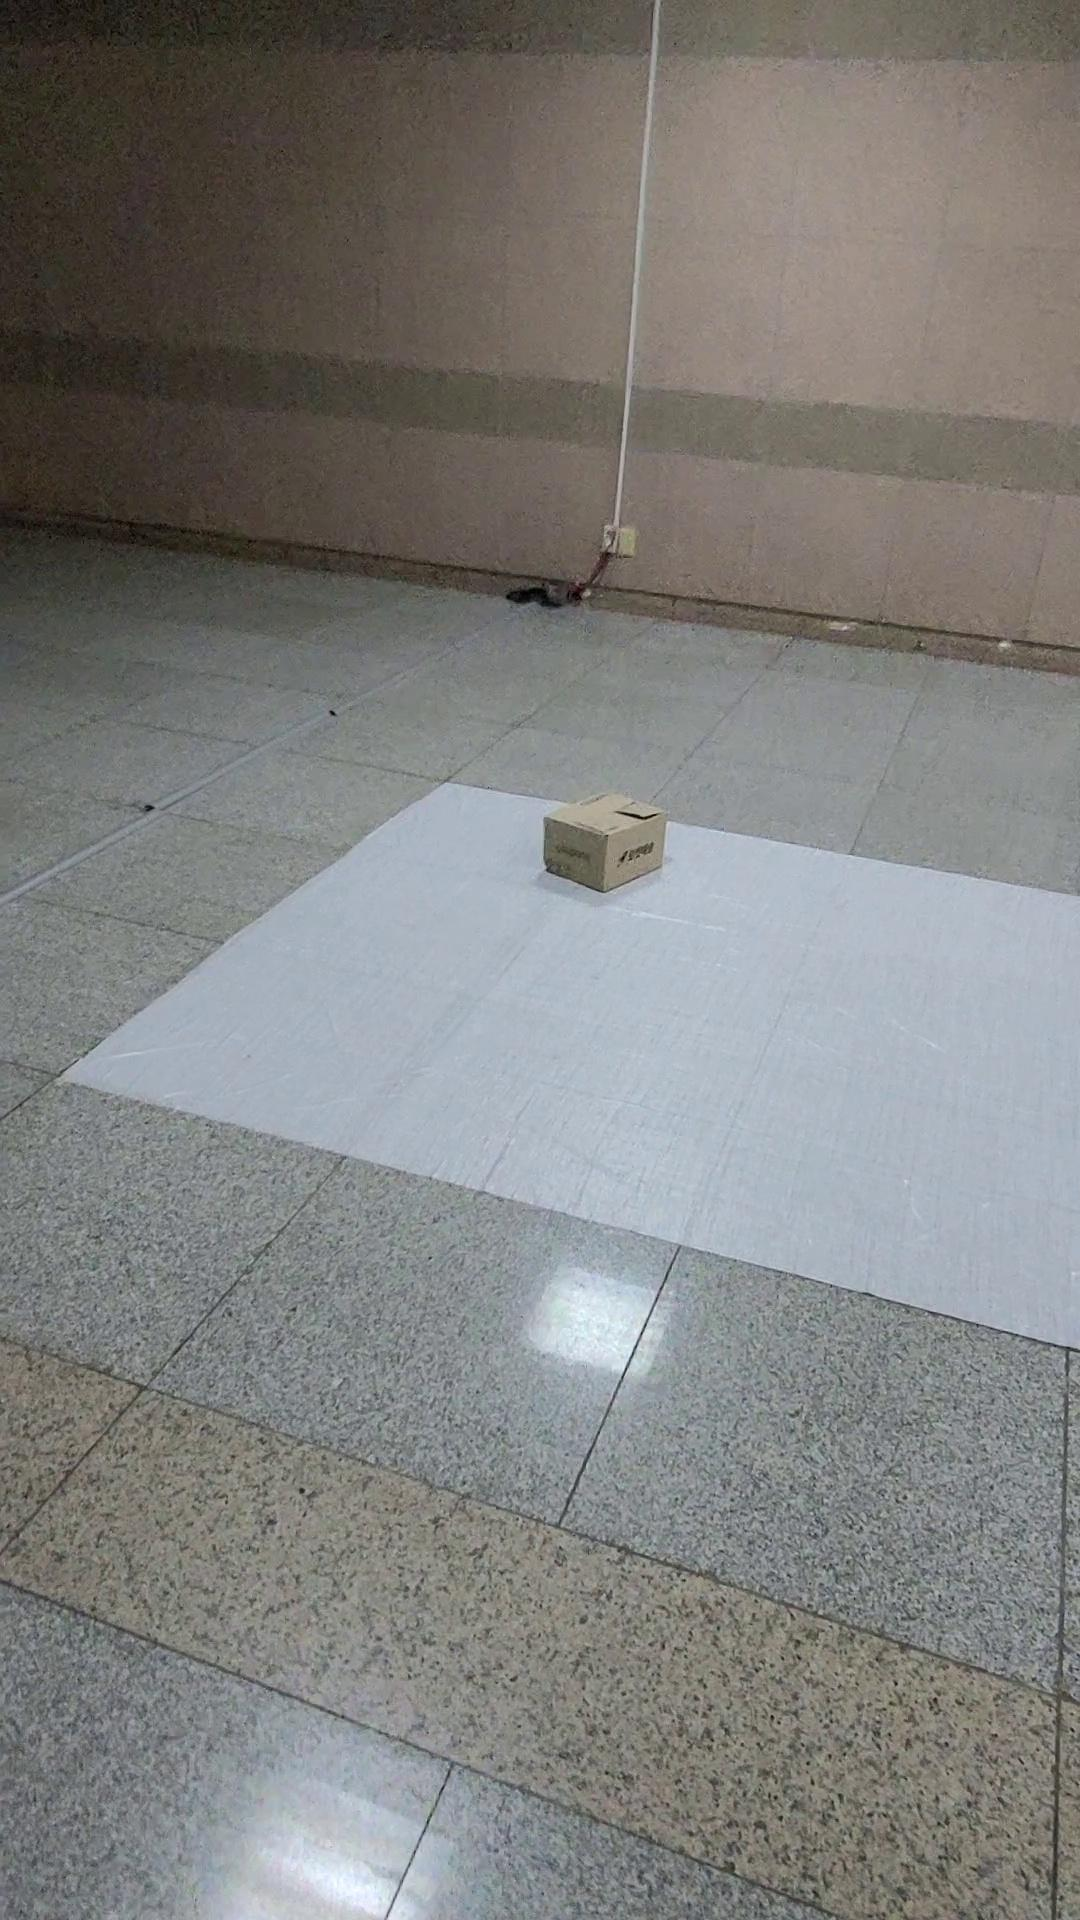Box: (513, 767, 774, 955)
